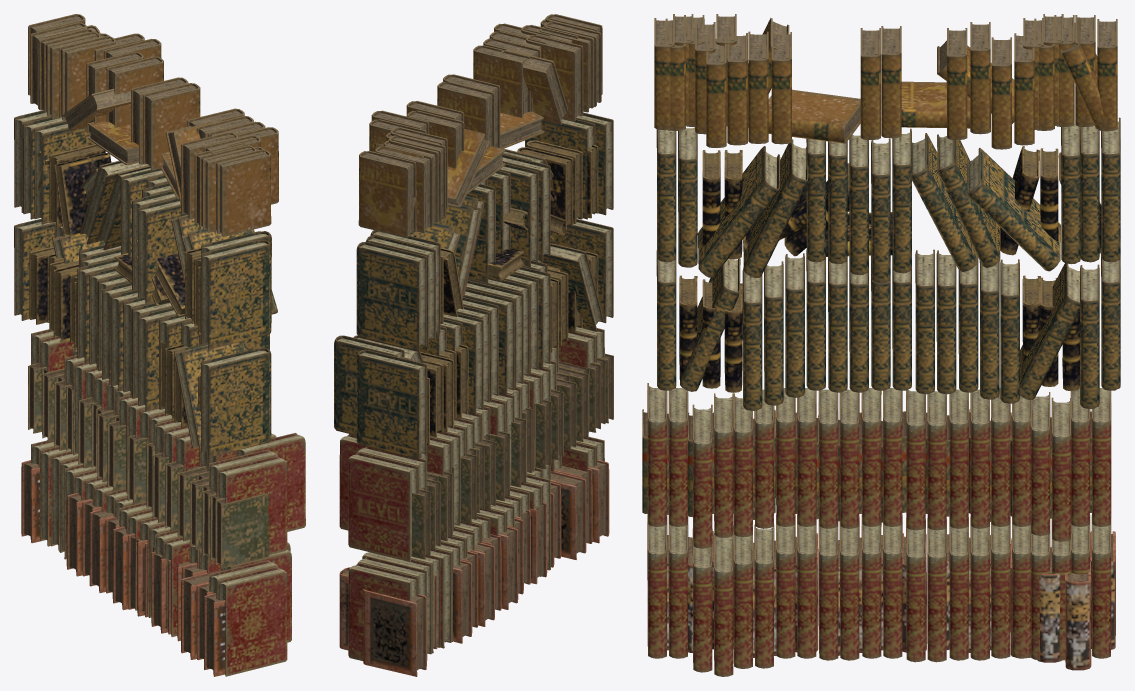
The model's file is sm39_211_bookshelsetf05a.fbx.
The picture shows the model from 3 angles, left to right: view 1: azimuth 30°, elevation 25°; view 2: azimuth 150°, elevation 25°; view 3: azimuth 270°, elevation 25°; orthographic projection. The views are drawn at different scales.
Parts seen in each view (by area): view 1: LOD_1_Group_1_Sub_1__sm36_001_BookSet01A_A_Mat, LOD_1_Group_0_Sub_1__sm36_001_BookSet01A_A_Mat; view 2: LOD_1_Group_1_Sub_1__sm36_001_BookSet01A_A_Mat, LOD_1_Group_0_Sub_1__sm36_001_BookSet01A_A_Mat; view 3: LOD_1_Group_1_Sub_1__sm36_001_BookSet01A_A_Mat, LOD_1_Group_0_Sub_1__sm36_001_BookSet01A_A_Mat.
Boxes of the visible parts, bbox=[...] form: LOD_1_Group_1_Sub_1__sm36_001_BookSet01A_A_Mat: bbox=[14, 14, 305, 676]; LOD_1_Group_0_Sub_1__sm36_001_BookSet01A_A_Mat: bbox=[21, 25, 271, 676]; LOD_1_Group_1_Sub_1__sm36_001_BookSet01A_A_Mat: bbox=[334, 18, 613, 660]; LOD_1_Group_0_Sub_1__sm36_001_BookSet01A_A_Mat: bbox=[339, 14, 613, 676]; LOD_1_Group_1_Sub_1__sm36_001_BookSet01A_A_Mat: bbox=[647, 15, 1120, 676]; LOD_1_Group_0_Sub_1__sm36_001_BookSet01A_A_Mat: bbox=[642, 14, 1115, 670].
Size of the model in its own units: 0.38 by 1.61 by 1.15.
